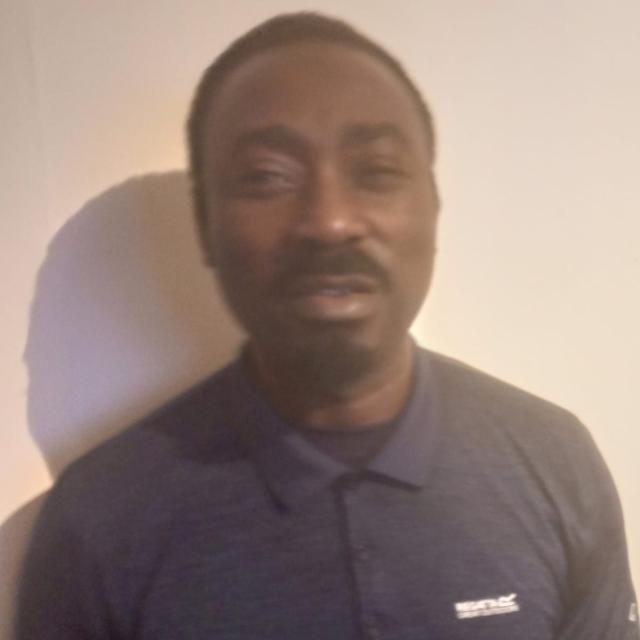happy: (180, 2, 443, 382)
